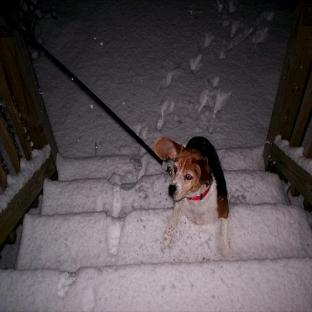Animal: (155, 136, 230, 255)
